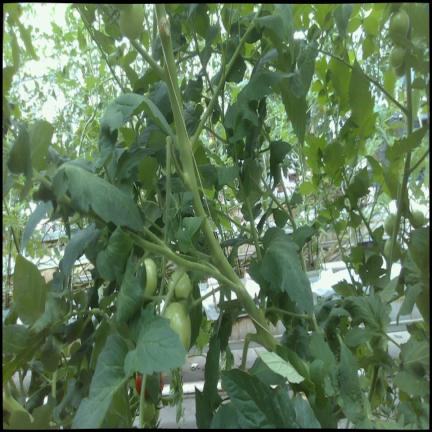6kp_peduncle: (242, 302, 279, 369), (166, 136, 199, 204)
6kp_petiole: (175, 111, 209, 182), (147, 33, 180, 101), (213, 260, 253, 314), (391, 93, 412, 130), (381, 235, 397, 278), (402, 157, 422, 189)
MainStem: (154, 3, 204, 217), (203, 218, 276, 353), (385, 153, 411, 279), (238, 175, 261, 262), (406, 64, 413, 138)
tomato: (164, 302, 191, 350), (119, 5, 144, 39), (167, 271, 191, 298), (389, 10, 409, 35), (144, 258, 157, 295), (384, 238, 401, 262), (389, 45, 405, 68), (144, 399, 155, 425), (384, 213, 395, 236), (410, 210, 424, 228), (395, 62, 405, 78), (135, 374, 142, 394)
